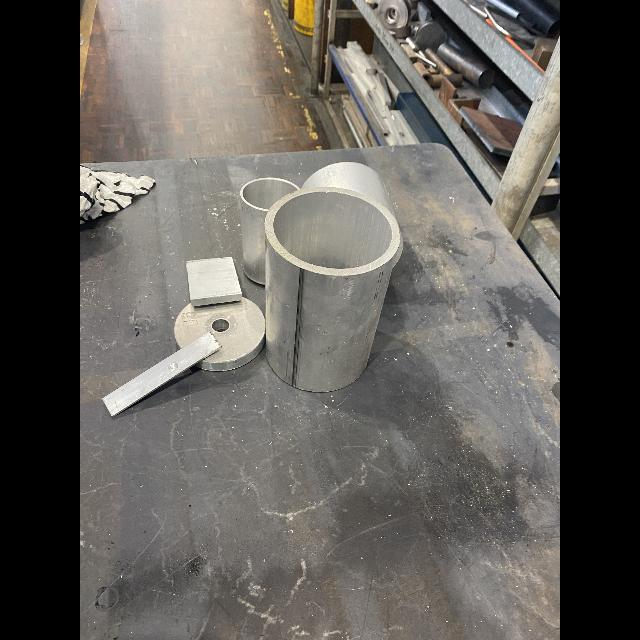Aluminium: (264, 187, 400, 393), (103, 333, 221, 416), (174, 298, 265, 371), (240, 177, 299, 285), (302, 162, 397, 222), (186, 257, 241, 307), (392, 234, 403, 268)
